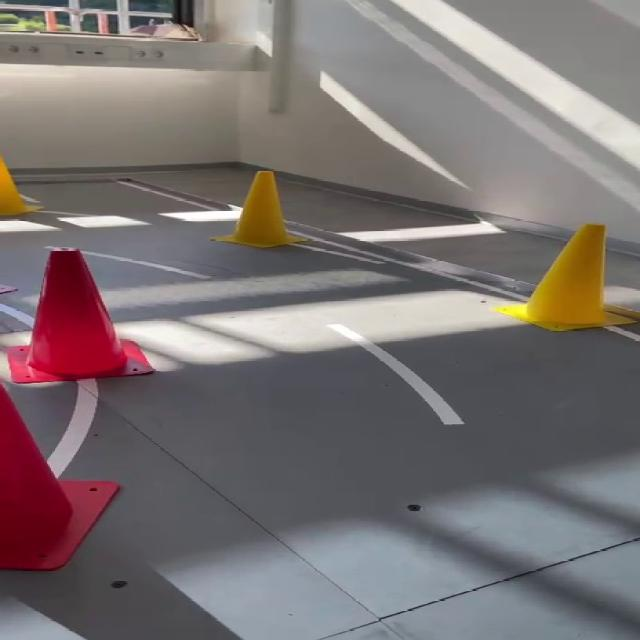Cone-red: (0, 384, 119, 570), (6, 248, 153, 384)
Cones-yellow: (495, 224, 639, 331), (211, 171, 305, 248), (0, 157, 40, 215)
